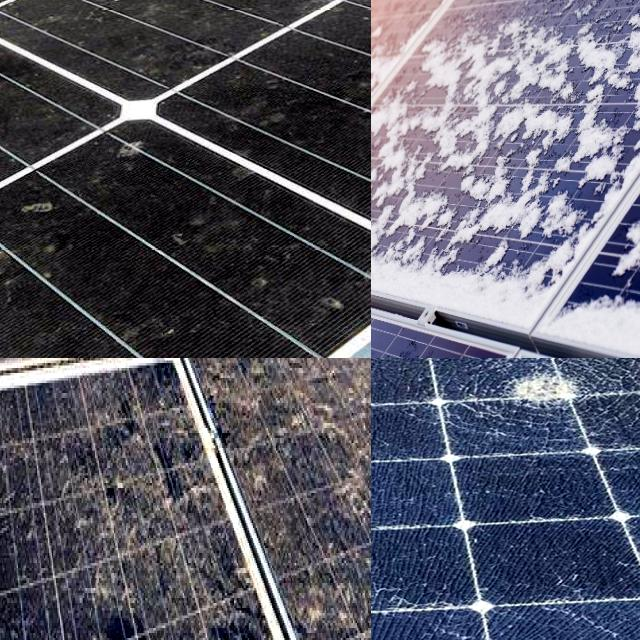bird: (72, 404, 165, 534), (32, 0, 201, 41), (292, 374, 350, 474), (20, 358, 104, 400), (202, 358, 297, 392), (325, 579, 371, 639), (0, 358, 32, 380)
hotspot: (459, 358, 605, 432)
panel: (418, 226, 544, 325), (518, 21, 624, 134), (516, 149, 622, 242), (424, 28, 526, 104), (403, 101, 498, 179), (371, 190, 434, 296), (558, 292, 640, 358), (442, 192, 532, 247), (371, 117, 426, 203), (371, 0, 467, 49), (371, 121, 421, 194), (480, 0, 569, 40), (607, 203, 640, 309), (371, 194, 411, 268), (371, 58, 424, 112), (486, 0, 578, 26), (371, 0, 413, 46), (371, 208, 405, 254), (582, 0, 640, 21), (596, 0, 640, 26)
